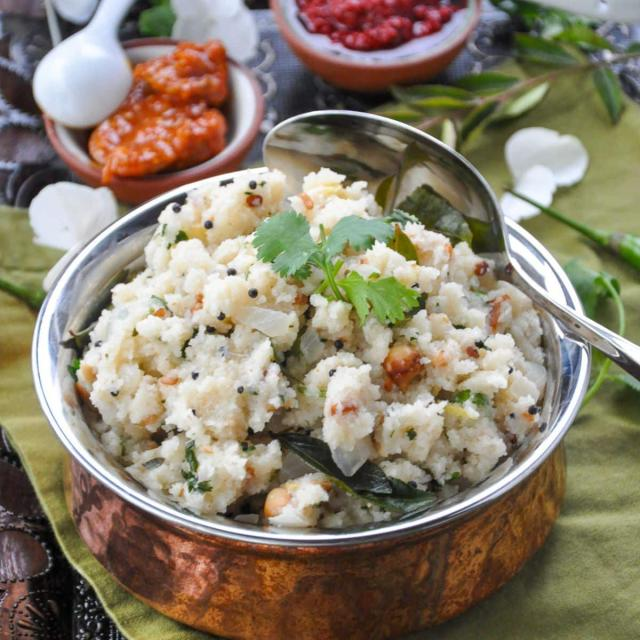upma: (70, 160, 558, 542)
